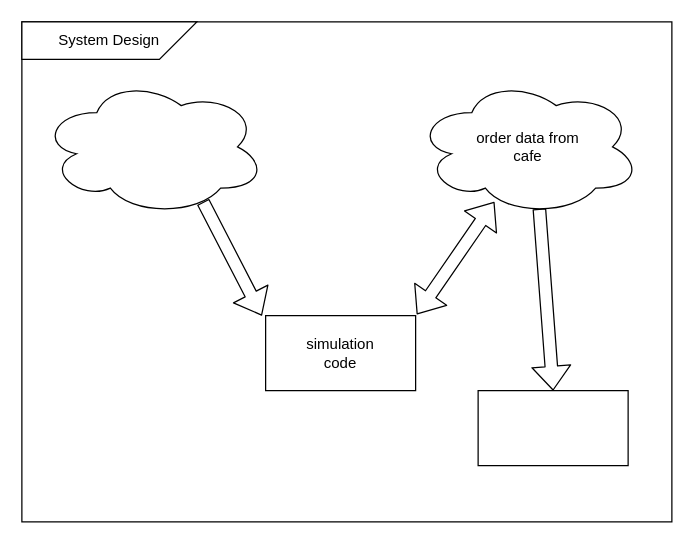
Image size: 694x544. Some labels were removed from this diagram. The shapes that lost their labels are listed below. From the top down, each one's centre as x and y in pixels, then its label:
the point at 152,146: menu data from headquarters
the point at 552,427: viewer
